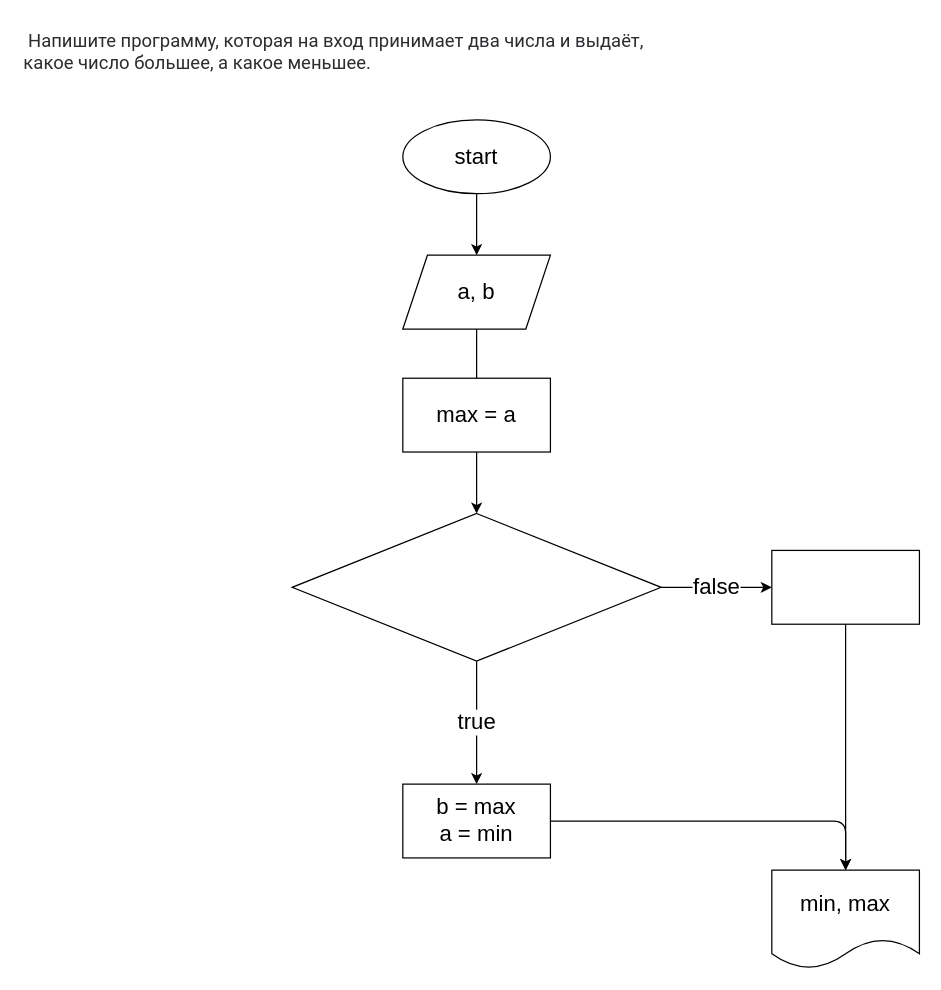
Image size: 941x990. Some labels were removed from this diagram. The centre of each missing label's shape, as x and y in pixels:
b = min a = max: point (845, 586)
b > max: point (476, 586)
